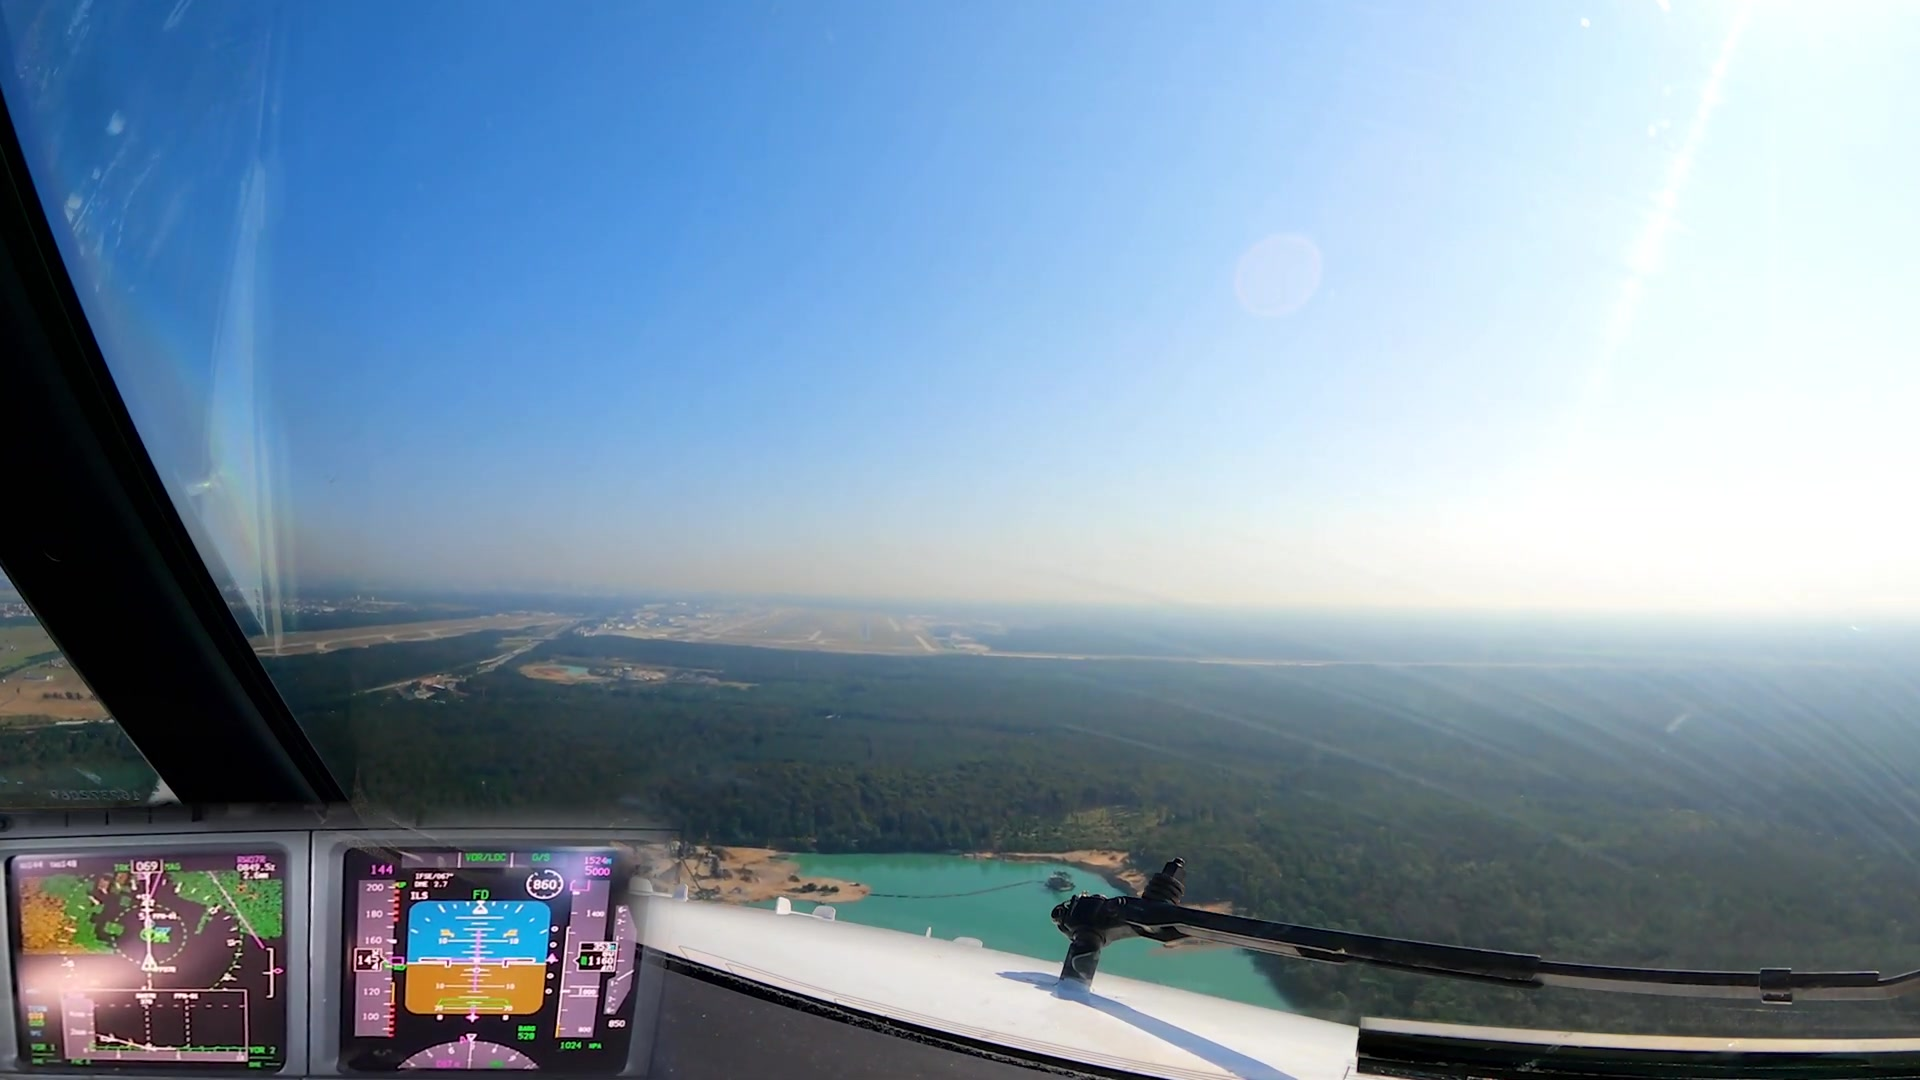runway: (857, 609, 872, 644)
